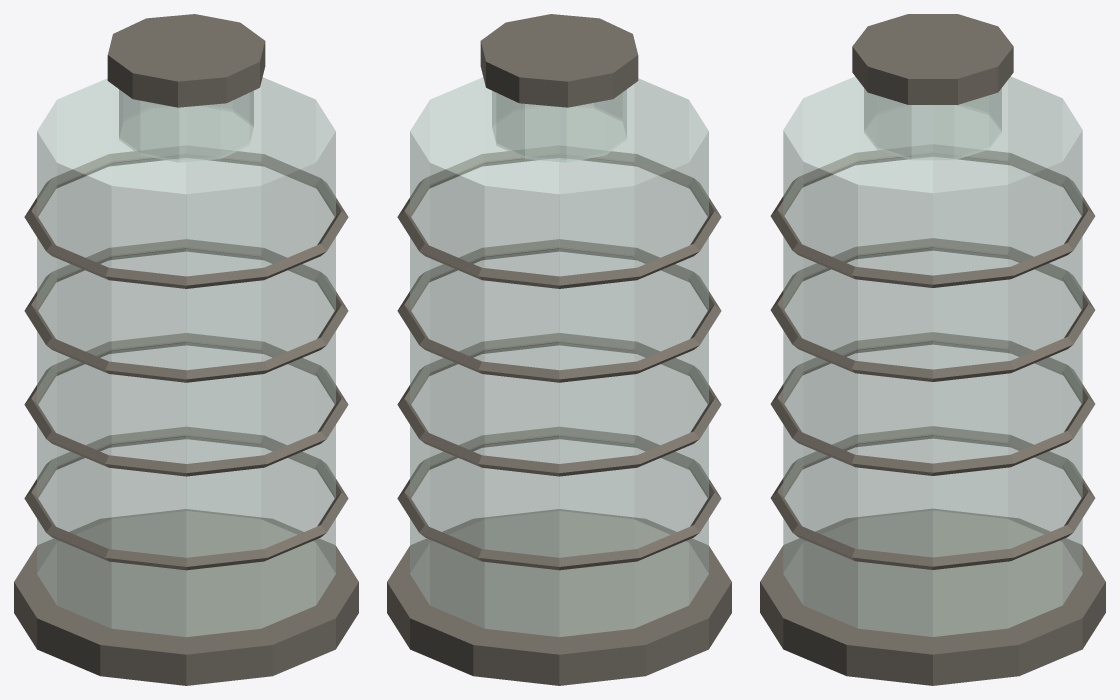
Rendered from specimen_jar.glb.
3 views of the same model, side by side, from view 1: azimuth 30°, elevation 25°; view 2: azimuth 150°, elevation 25°; view 3: azimuth 270°, elevation 25° (orthographic).
Parts seen in each view (by area): view 1: specimen_jar; view 2: specimen_jar; view 3: specimen_jar.
Boxes of the visible parts, left/top/right/bottom form: specimen_jar: left=14, top=14, right=358, bottom=685; specimen_jar: left=387, top=14, right=731, bottom=685; specimen_jar: left=760, top=14, right=1105, bottom=685.
Size of the model in its own units: 0.6 by 1.08 by 0.6.
